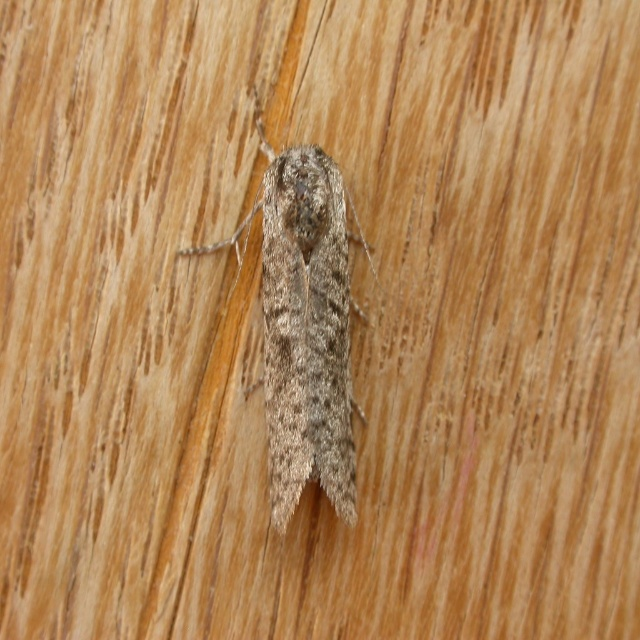Moths and butterflies: (177, 79, 385, 536)
